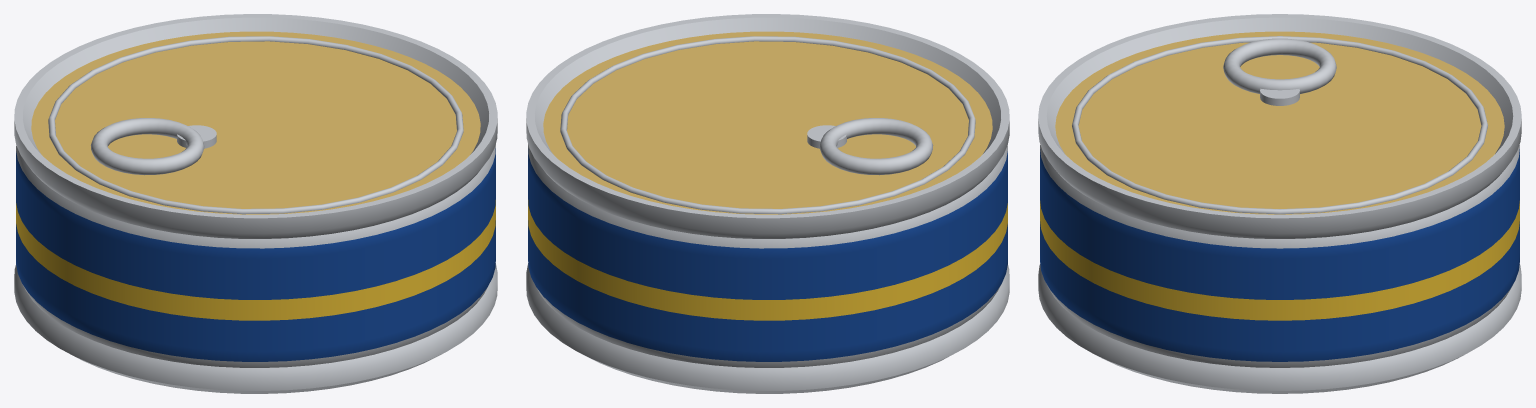
File: item-tuna-can.glb
The picture shows the model from 3 angles, left to right: view 1: azimuth 30°, elevation 25°; view 2: azimuth 150°, elevation 25°; view 3: azimuth 270°, elevation 25°; orthographic projection.
Visible parts, largest first — view 1: item-tuna-can; view 2: item-tuna-can; view 3: item-tuna-can.
Boxes of the visible parts, x1,y1,x2,y2 form: item-tuna-can: (14,14,497,393); item-tuna-can: (526,14,1009,393); item-tuna-can: (1038,14,1521,393).
Bounding box in the file's own units: 0.085 × 0.0356 × 0.085.
